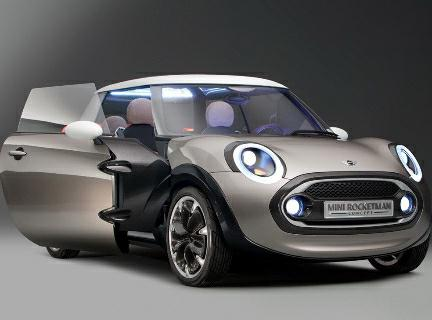MINI-ROCKETMAN: (21, 78, 416, 284)
